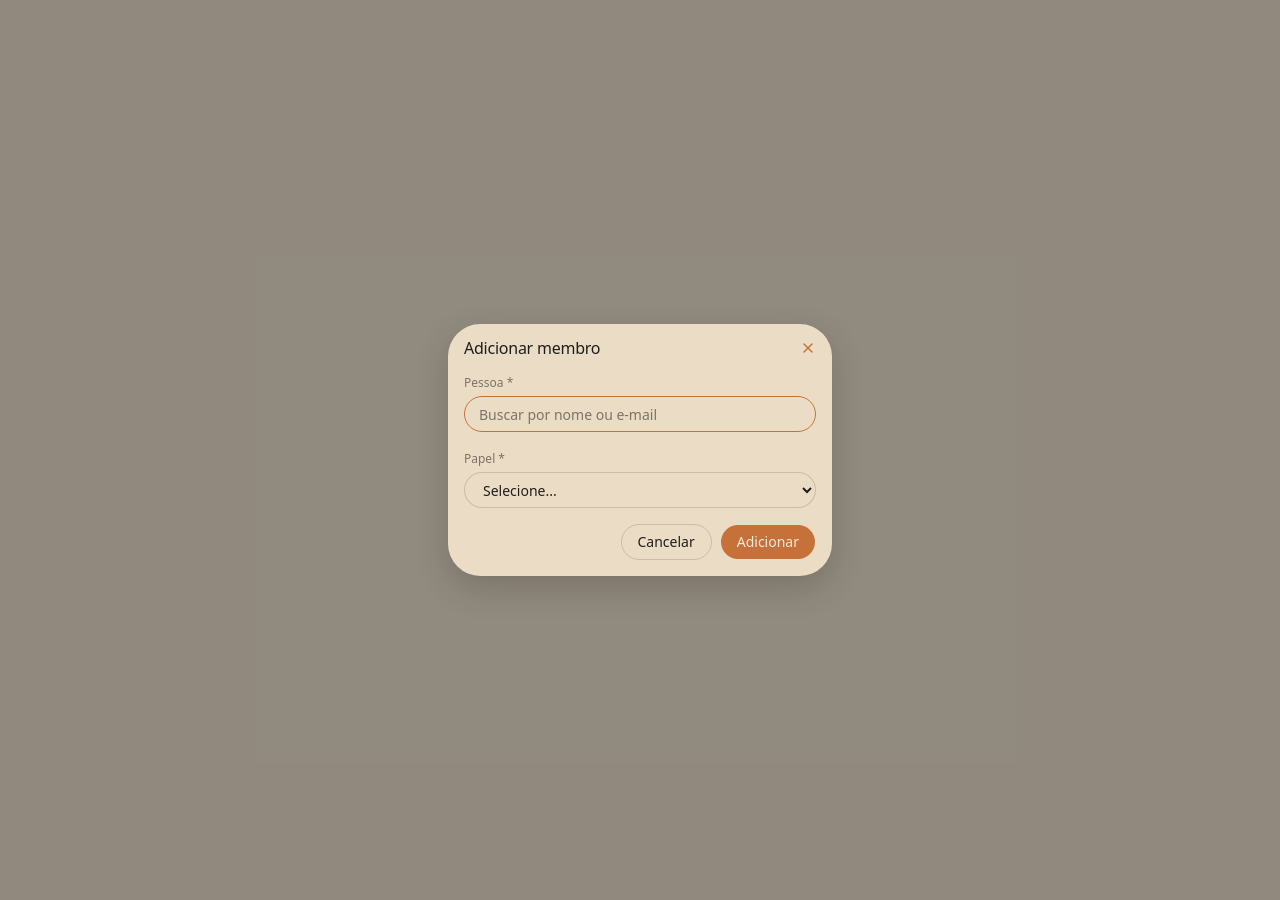
Test: AddMemberDialog › marks who is already in the classroom instead of hiding them
Click the dropdown labelled "Pessoa *" at (640, 414), box [464,396,816,432]
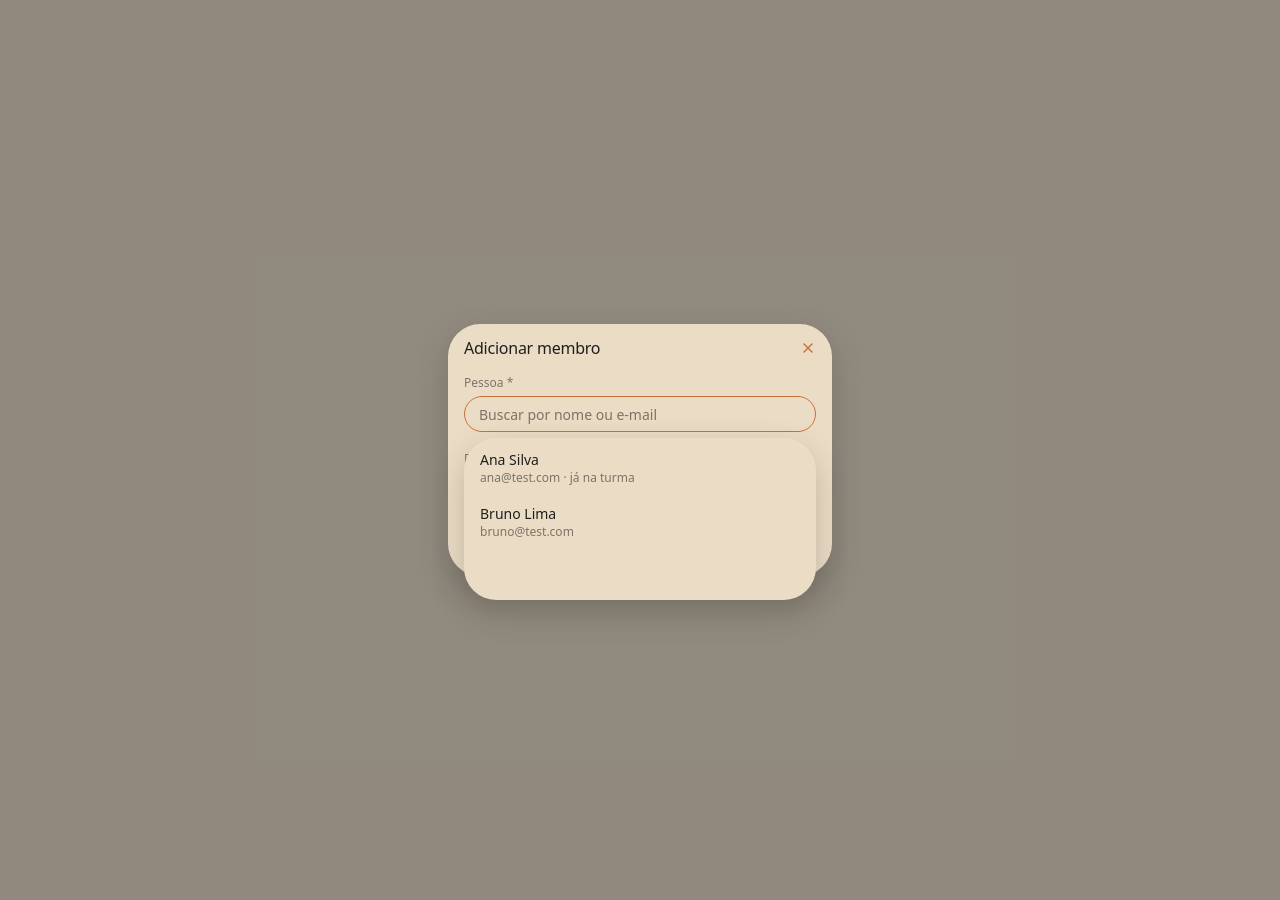
Expected: the text "Ana Silva" is shown, [480,450,539,470]
Expected: the text "ana@test.com · já na turma" is shown, [480,470,635,486]
